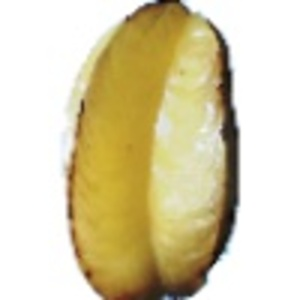carambola: (62, 1, 240, 300)
